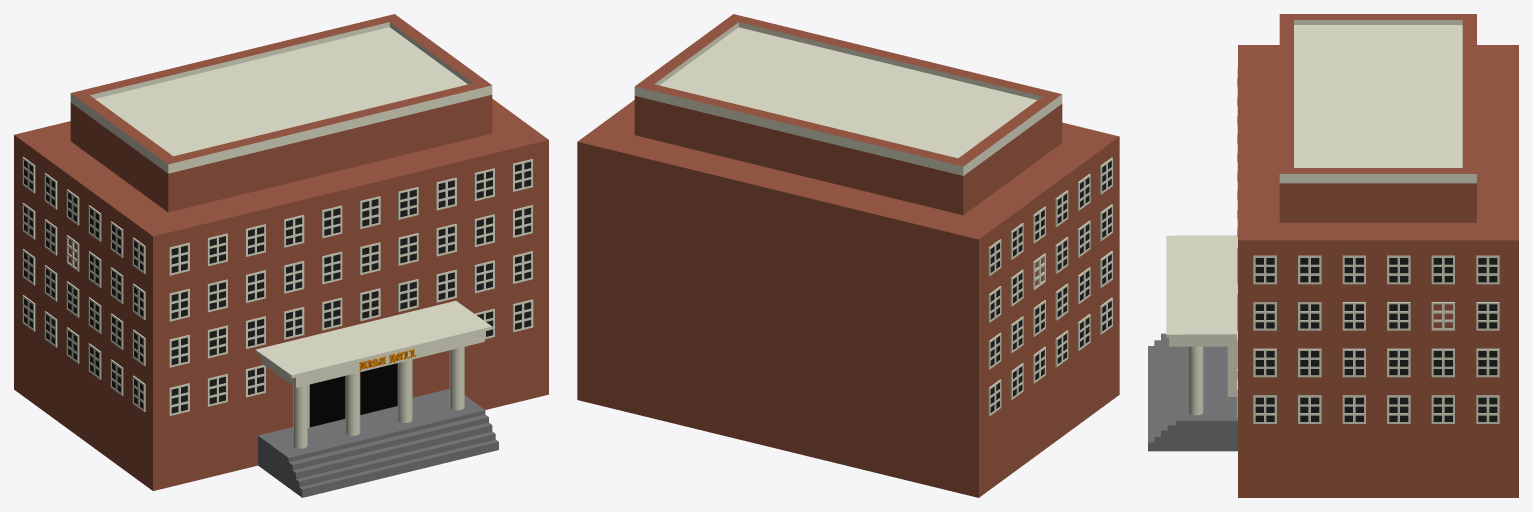
File: Bisa Hall.fbx
The picture shows the model from 3 angles, left to right: view 1: azimuth 30°, elevation 25°; view 2: azimuth 150°, elevation 25°; view 3: azimuth 270°, elevation 25°; orthographic projection.
Parts seen in each view (by area): view 1: Windows_Bisa Hall 02; view 2: Windows_Bisa Hall 02; view 3: Windows_Bisa Hall 02.
Part boxes in pixels (x1,y1,x2,y2): Windows_Bisa Hall 02: (14, 14, 548, 497); Windows_Bisa Hall 02: (577, 14, 1119, 497); Windows_Bisa Hall 02: (1148, 14, 1518, 497).
Size of the model in its own units: 331 by 241 by 264.
